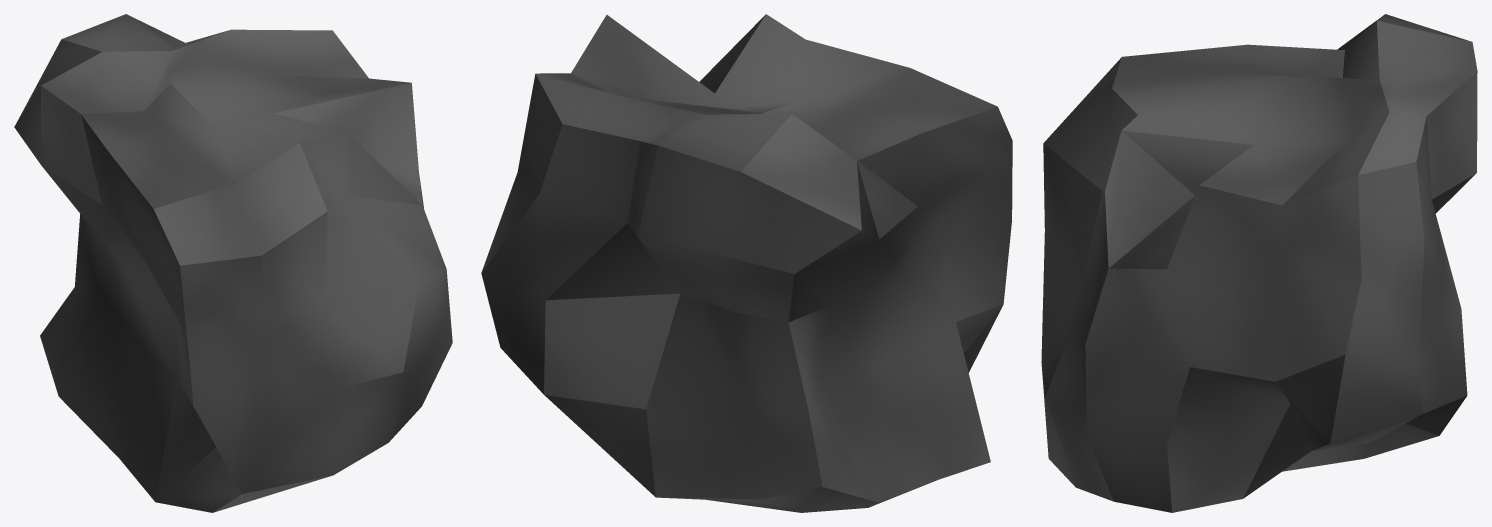
The model's file is GAMEJAMPUFFER - ForeGround Rock 3.fbx.
The picture shows the model from 3 angles, left to right: view 1: azimuth 30°, elevation 25°; view 2: azimuth 150°, elevation 25°; view 3: azimuth 270°, elevation 25°; orthographic projection. The views are drawn at different scales.
Visible parts, largest first — view 1: Cube.002; view 2: Cube.002; view 3: Cube.002.
Boxes of the visible parts, <box> form: Cube.002: <box>14,14,452,512</box>; Cube.002: <box>481,14,1012,512</box>; Cube.002: <box>1041,14,1477,512</box>.
Bounding box in the file's own units: 180 × 205 × 185.
Materials: 1 (1 with a texture image).
